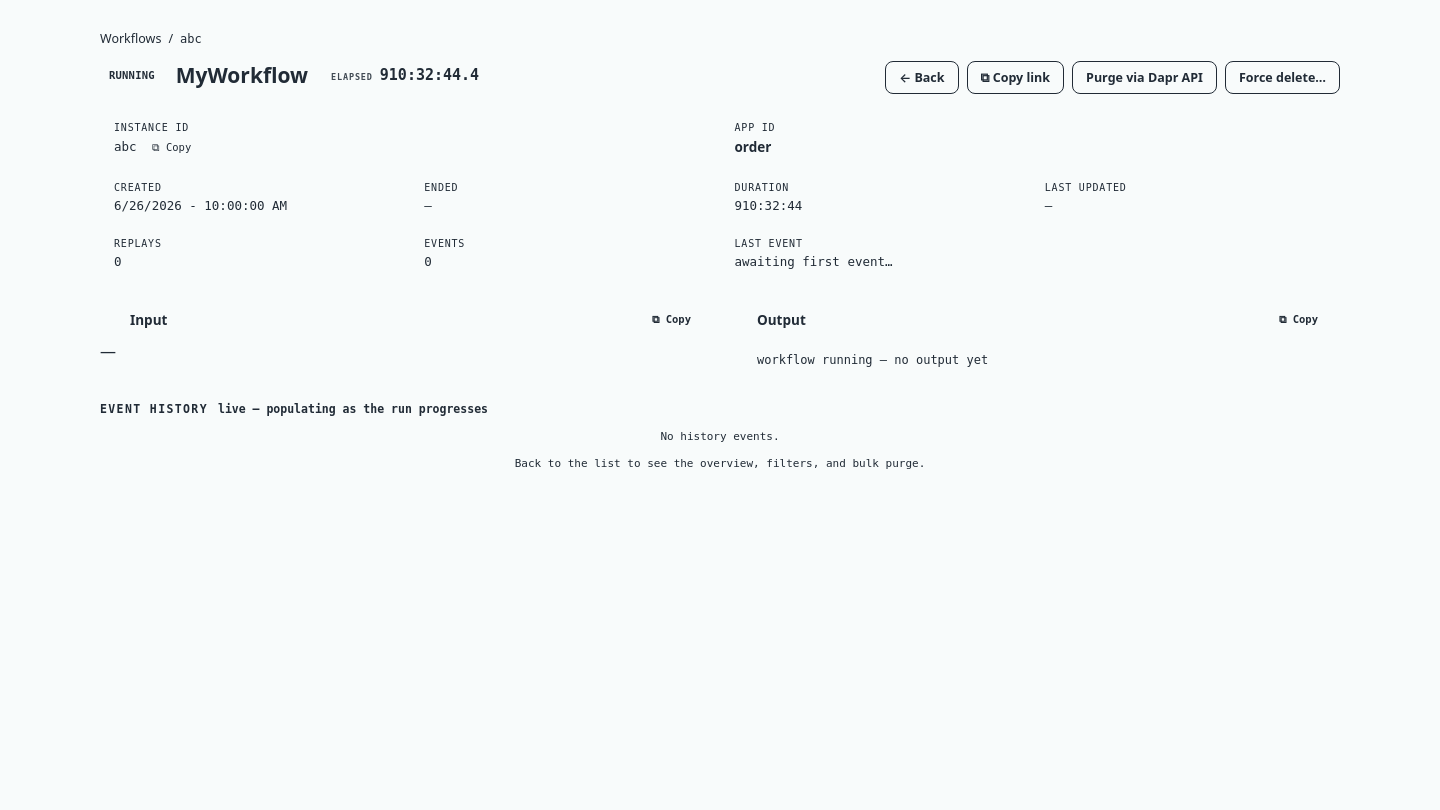
Test case: WorkflowDetail › Force delete button opens dialog with force checkbox checked
Expected: the text "RUNNING" is shown, left=109, top=69, right=155, bottom=81
Note: Click Force delete
Click the button with test id "wf-remove" at x=1282, y=78, box left=1225, top=61, right=1340, bottom=94
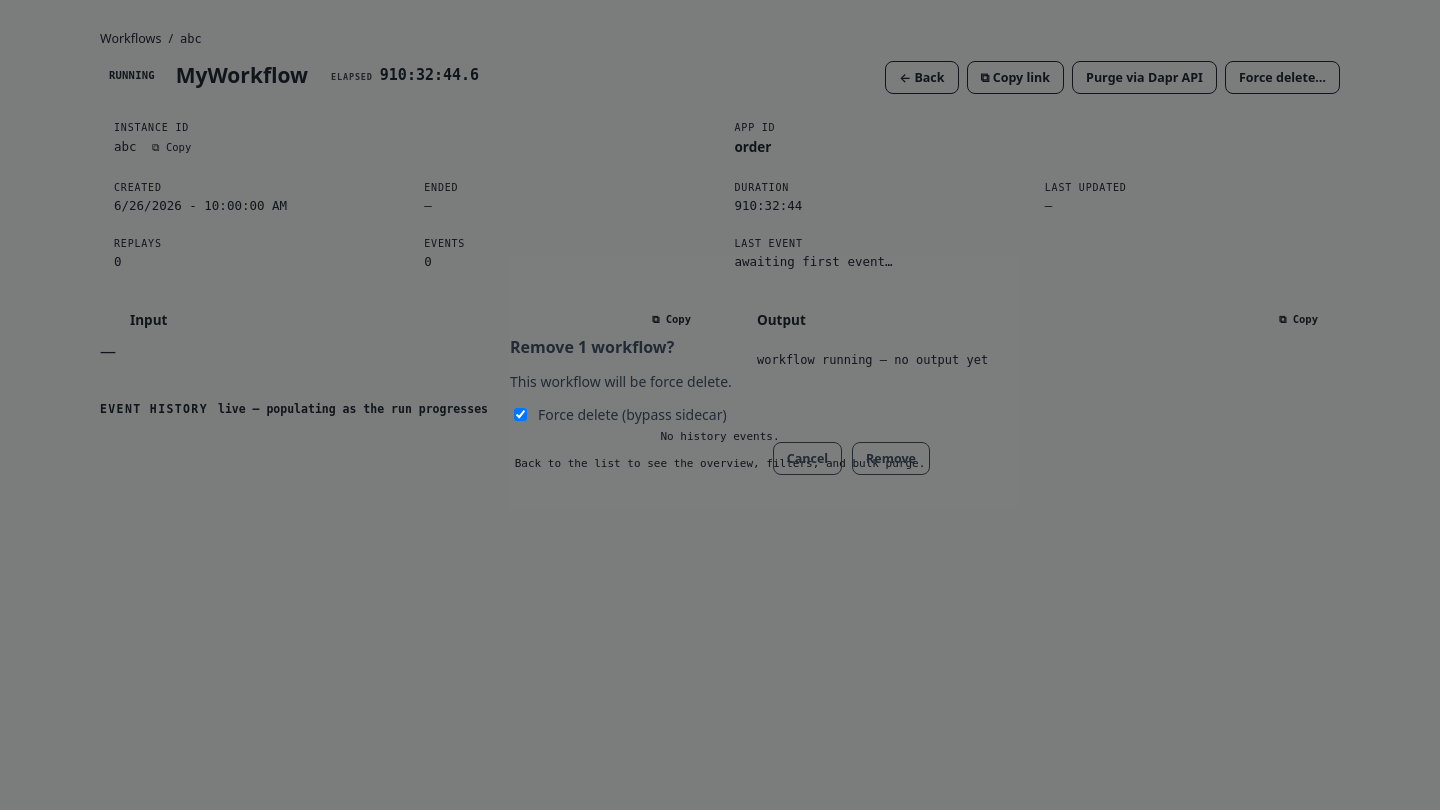
Expected: the button with test id "confirm-remove" is shown, left=852, top=442, right=930, bottom=474
Expected: the checkbox with test id "confirm-force" is checked, left=514, top=408, right=527, bottom=420
